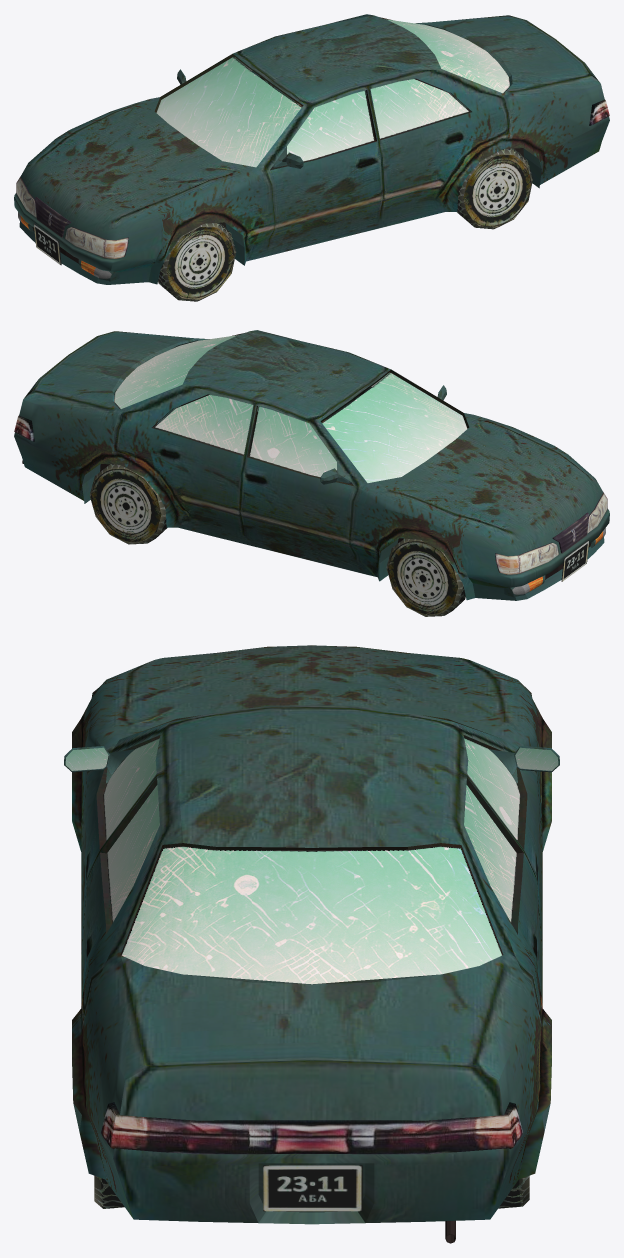
File: low_poly_car_toyota.glb
3 views of the same model, one above another, from view 1: azimuth 30°, elevation 25°; view 2: azimuth 150°, elevation 25°; view 3: azimuth 270°, elevation 25° (orthographic). The views are drawn at different scales.
Parts seen in each view (by area): view 1: Object_6, Object_5, Object_4, Object_8, Object_3, Object_7, Object_9; view 2: Object_6, Object_5, Object_4, Object_8, Object_3, Object_7, Object_9; view 3: Object_6, Object_5, Object_10, Object_3, Object_9, Object_4.
Part boxes in pixels (x1=…): Object_6: x1=14, y1=14, x2=609, y2=284; Object_5: x1=156, y1=19, x2=510, y2=168; Object_4: x1=158, y1=148, x2=532, y2=301; Object_8: x1=16, y1=176, x2=128, y2=258; Object_3: x1=34, y1=223, x2=61, y2=265; Object_7: x1=18, y1=212, x2=119, y2=281; Object_9: x1=177, y1=69, x2=303, y2=168; Object_6: x1=14, y1=330, x2=609, y2=600; Object_5: x1=113, y1=335, x2=467, y2=484; Object_4: x1=89, y1=464, x2=465, y2=616; Object_8: x1=495, y1=492, x2=607, y2=574; Object_3: x1=561, y1=540, x2=589, y2=581; Object_7: x1=504, y1=528, x2=605, y2=597; Object_9: x1=320, y1=385, x2=446, y2=484; Object_6: x1=72, y1=645, x2=551, y2=1243; Object_5: x1=103, y1=738, x2=520, y2=984; Object_10: x1=101, y1=1102, x2=522, y2=1154; Object_3: x1=263, y1=1165, x2=362, y2=1211; Object_9: x1=64, y1=746, x2=559, y2=783; Object_4: x1=94, y1=1175, x2=529, y2=1208.
Bounding box in the file's own units: 4.44 × 1.35 × 1.83.
8 materials, 8 textured.
